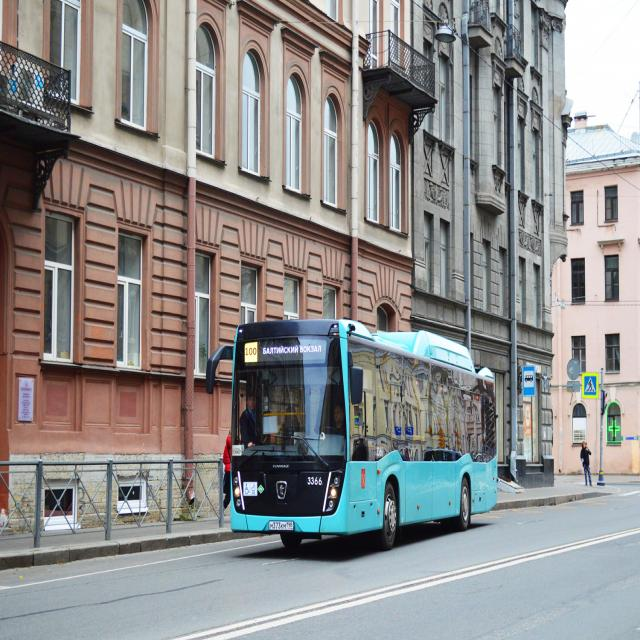number-of-bus: (246, 344, 259, 360)
